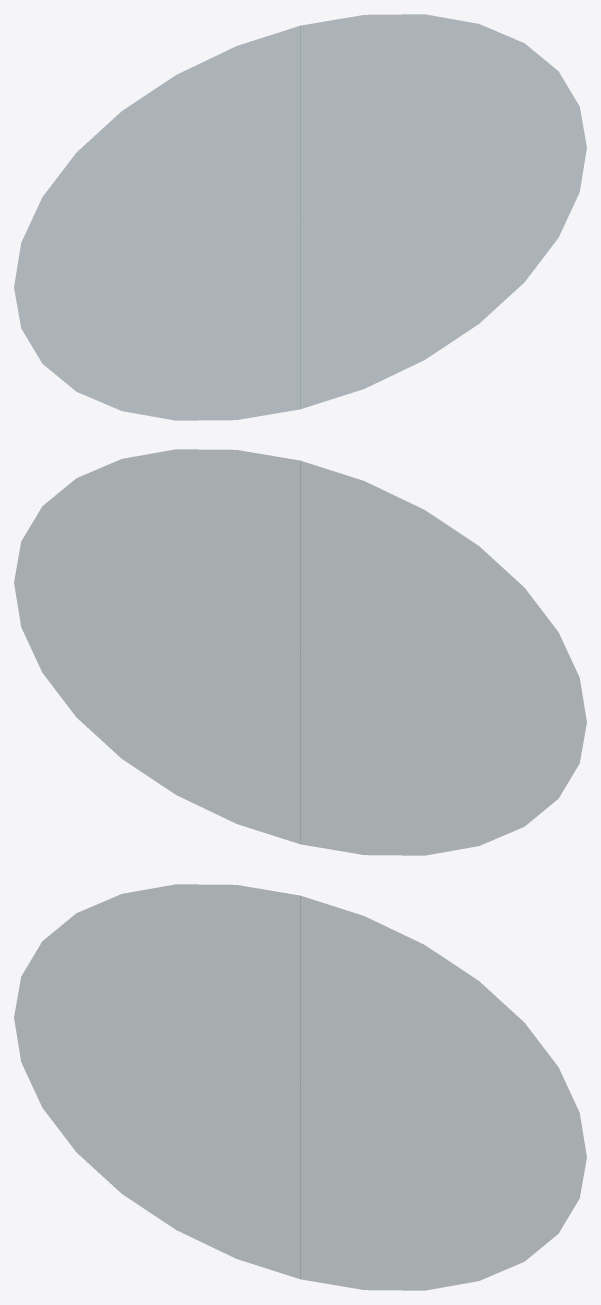
File: SARM_SAR_Water_FloodPool_002.glb
3 views of the same model, one above another, from view 1: azimuth 30°, elevation 25°; view 2: azimuth 150°, elevation 25°; view 3: azimuth 330°, elevation 25° (orthographic).
Parts seen in each view (by area): view 1: SAR_Water_FloodPool_002.001; view 2: SAR_Water_FloodPool_002.001; view 3: SAR_Water_FloodPool_002.001.
Boxes of the visible parts, box(x1,y1,x2,y2) form: SAR_Water_FloodPool_002.001: box(14, 14, 586, 420); SAR_Water_FloodPool_002.001: box(14, 449, 586, 855); SAR_Water_FloodPool_002.001: box(14, 884, 586, 1290).
Size of the model in its own units: 22.5 by 14.4 by 0.
